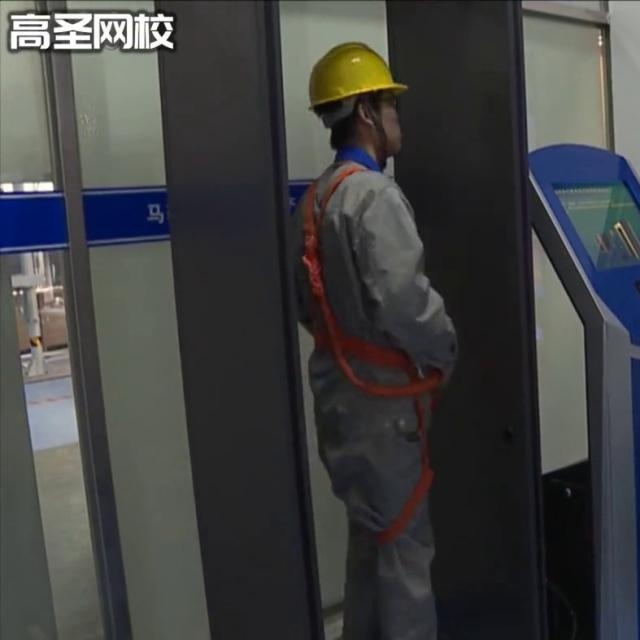Arnes_seguridad: (284, 153, 442, 412)
